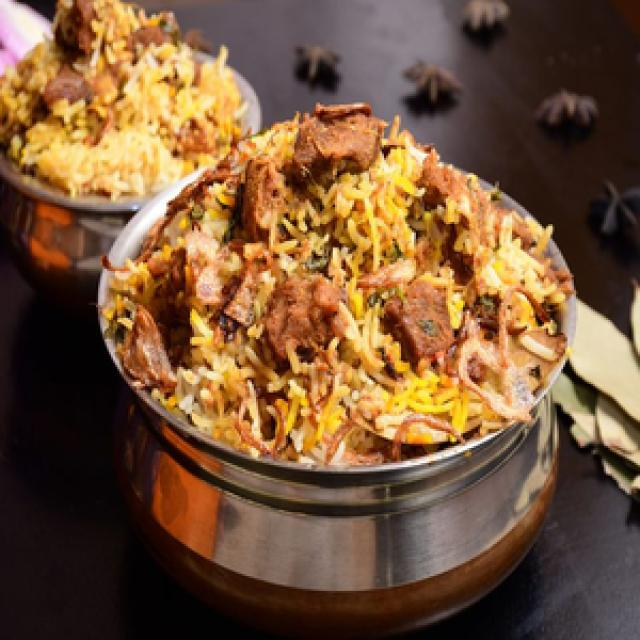chicken biriyani: (101, 105, 585, 479), (0, 0, 258, 203)
